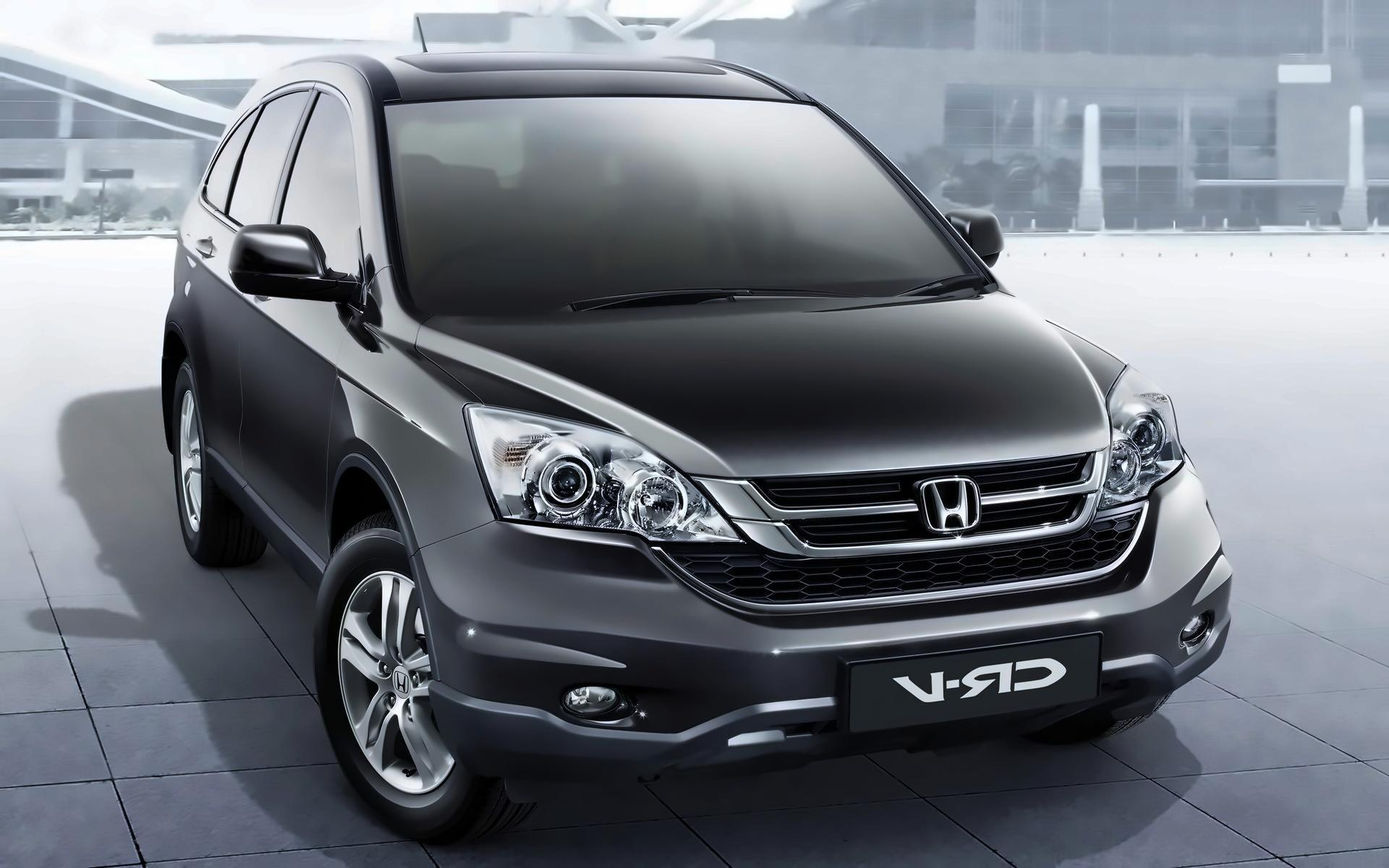Car hood: (411, 289, 1193, 484)
Driver-s door - -F-R-: (223, 58, 373, 545)
Fender - -F-R-: (314, 262, 496, 554)
Front bumper: (408, 458, 1286, 772)
Headlight - -L-: (1093, 357, 1188, 509)
Headlight - -R-: (466, 402, 746, 547), (228, 220, 379, 315)
Passenger-s door - -R-R-: (170, 49, 320, 495)
Side bumper - -R-: (191, 441, 334, 603)
Side mirror - -L-: (939, 201, 1006, 270)
